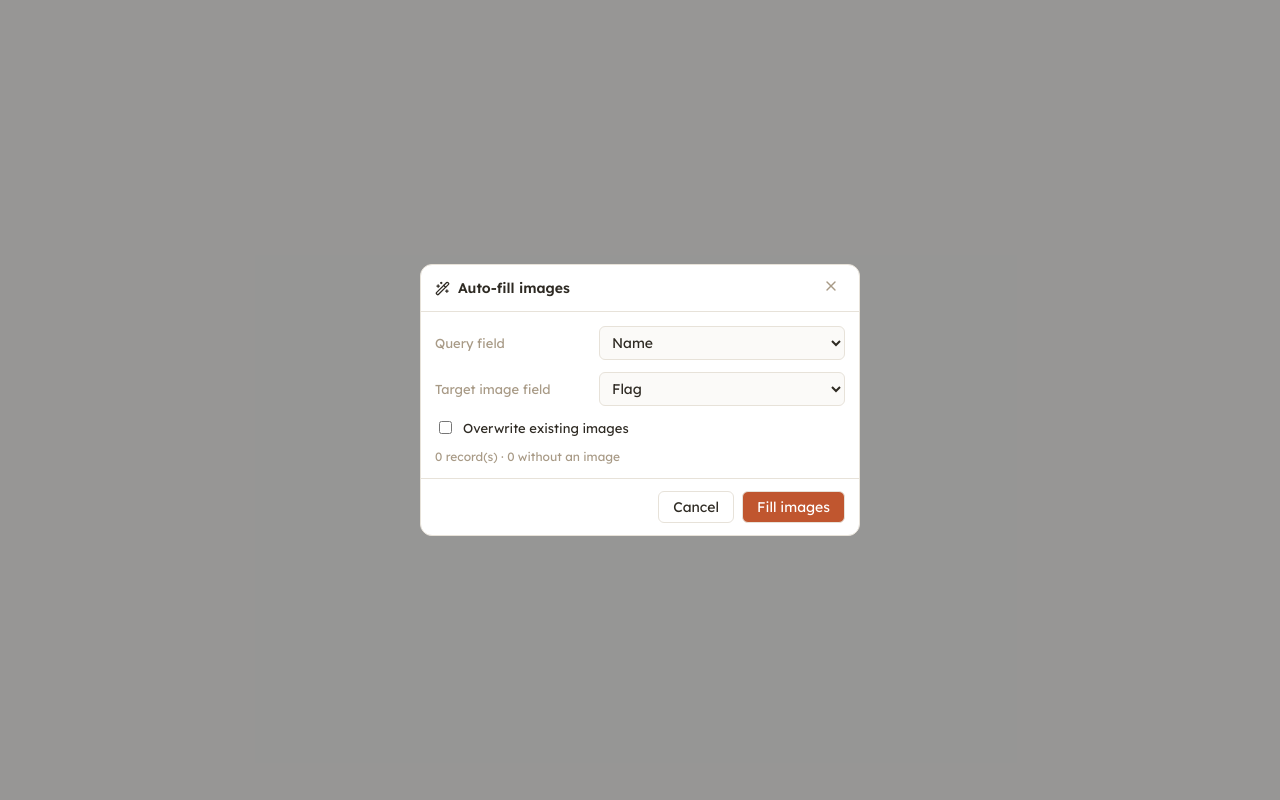
Test: AutofillImagesModal › auto-selects the matching target when an image field is chosen as the query source
Select "Food" in the dropdown labelled "Query field": [722, 343] box [599,326,845,360]
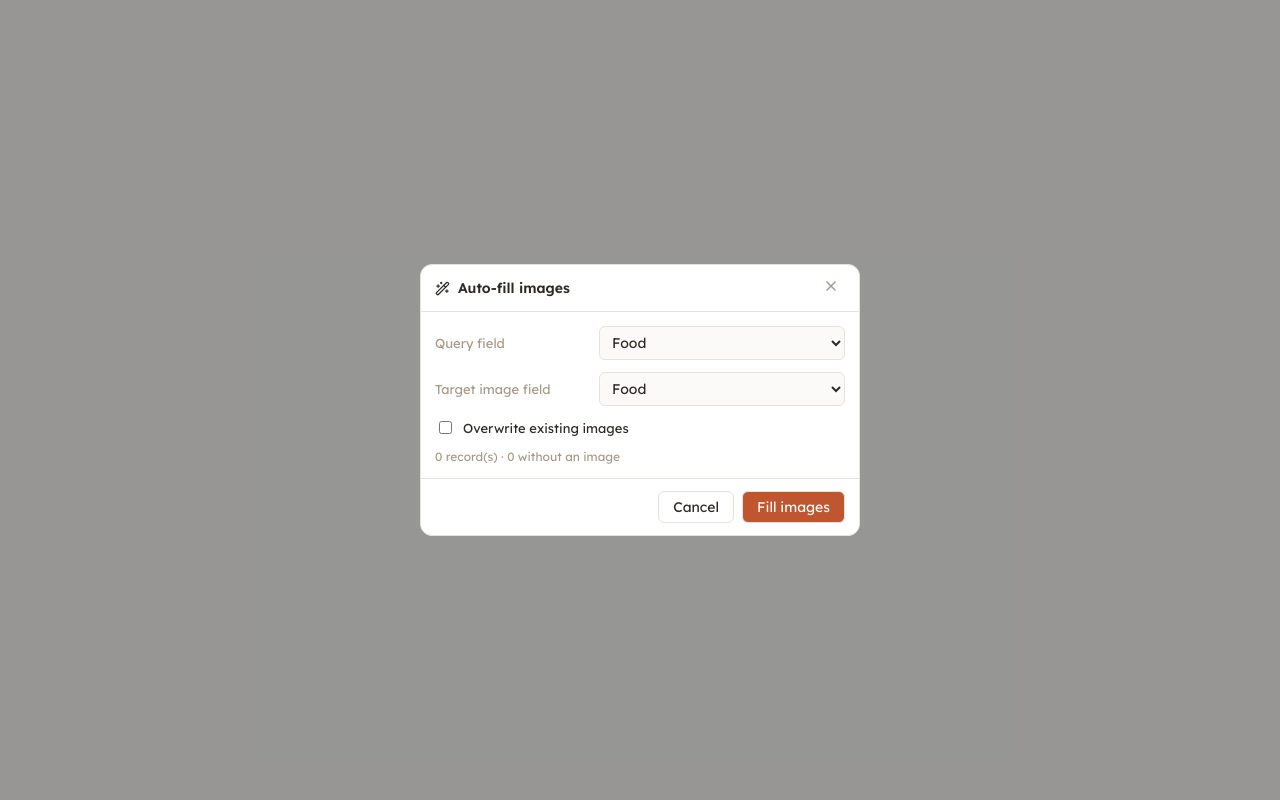
Now the dropdown labelled "Target image field" shows "Food", box [599,372,845,406]
